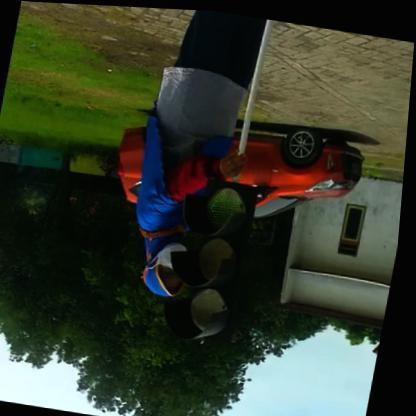green: (162, 171, 266, 344)
